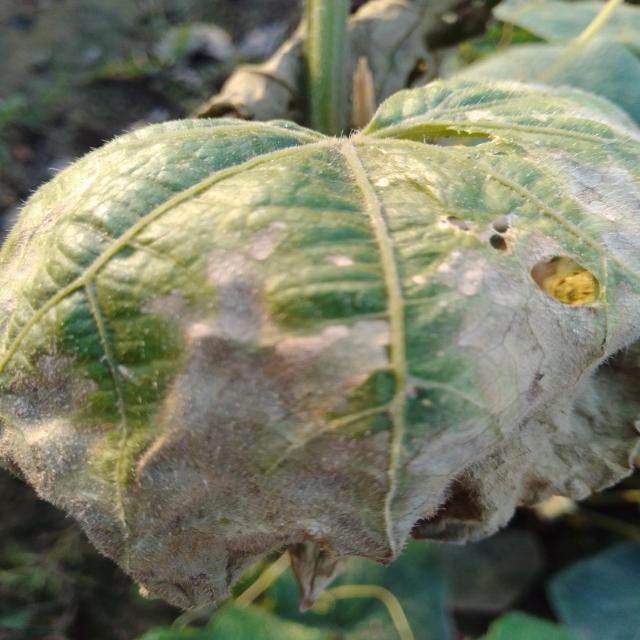cucumber_gummy: (0, 49, 640, 623)
